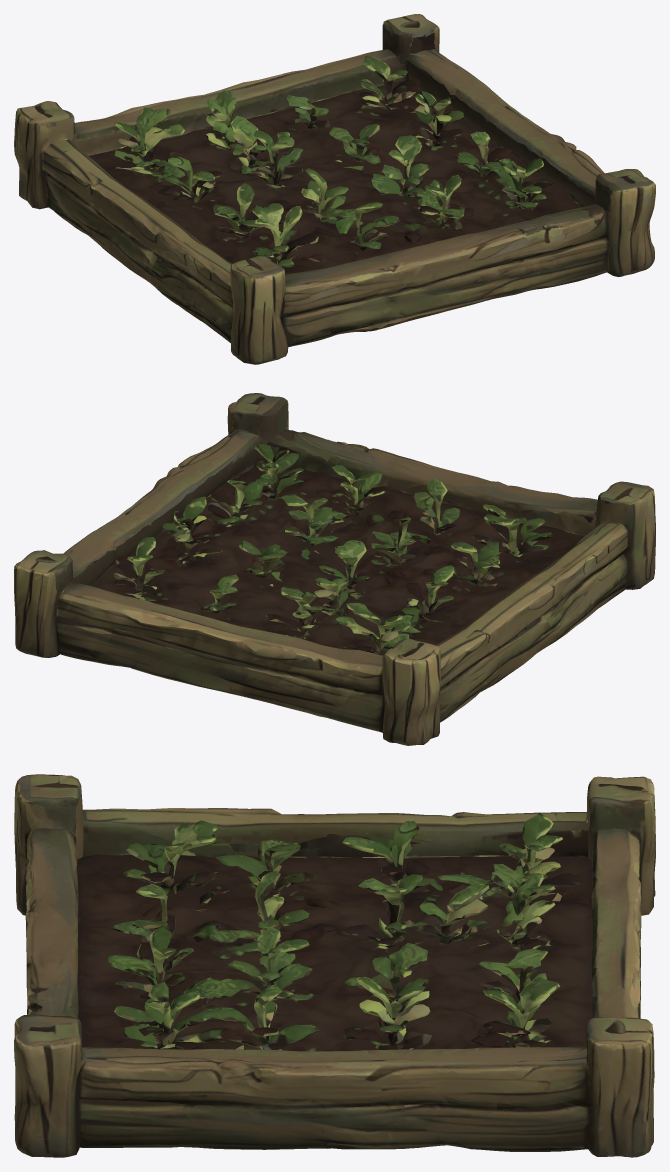
The model's file is struct_herb_field.glb.
3 renders of one model, top to bottom at view 1: azimuth 30°, elevation 25°; view 2: azimuth 150°, elevation 25°; view 3: azimuth 270°, elevation 25°, orthographic. The views are drawn at different scales.
Visible parts, largest first — view 1: struct_herb_field; view 2: struct_herb_field; view 3: struct_herb_field.
Boxes of the visible parts, box(x1,y1,x2,y2) form: struct_herb_field: box(14, 14, 655, 364); struct_herb_field: box(14, 393, 655, 745); struct_herb_field: box(14, 774, 655, 1157).
Size of the model in its own units: 2 by 0.4422 by 2.
Materials: 1 (1 with a texture image).
